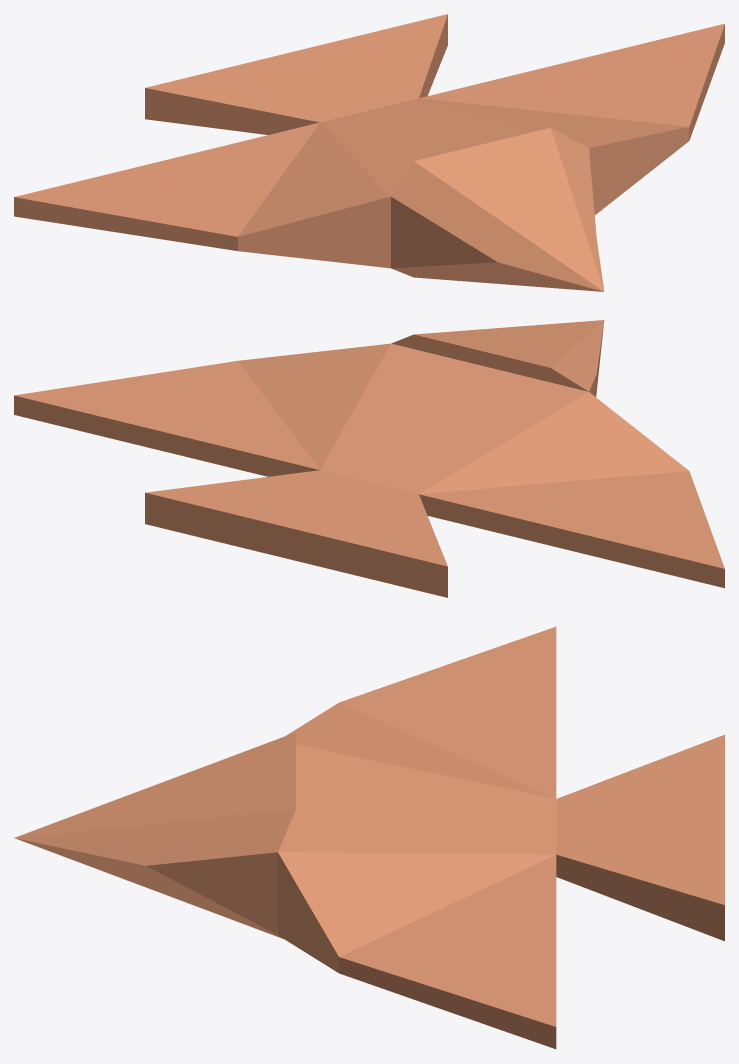
3 renders of one model, top to bottom at view 1: azimuth 30°, elevation 25°; view 2: azimuth 150°, elevation 25°; view 3: azimuth 270°, elevation 25°, orthographic. The views are drawn at different scales.
Parts seen in each view (by area): view 1: Cube; view 2: Cube; view 3: Cube.
Boxes of the visible parts, <box> form: Cube: <box>14,14,724,291</box>; Cube: <box>14,320,724,597</box>; Cube: <box>14,626,724,1049</box>.
Size of the model in its own units: 2.61 by 1.96 by 0.4087.
